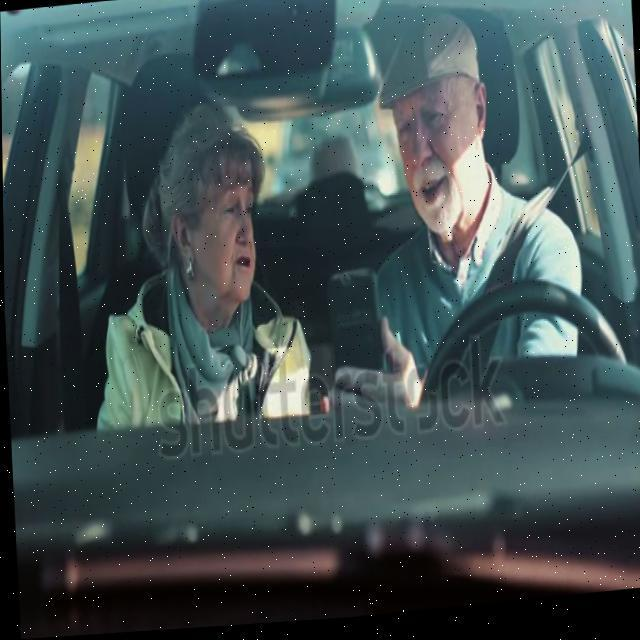PhoneCall: (324, 272, 386, 402)
